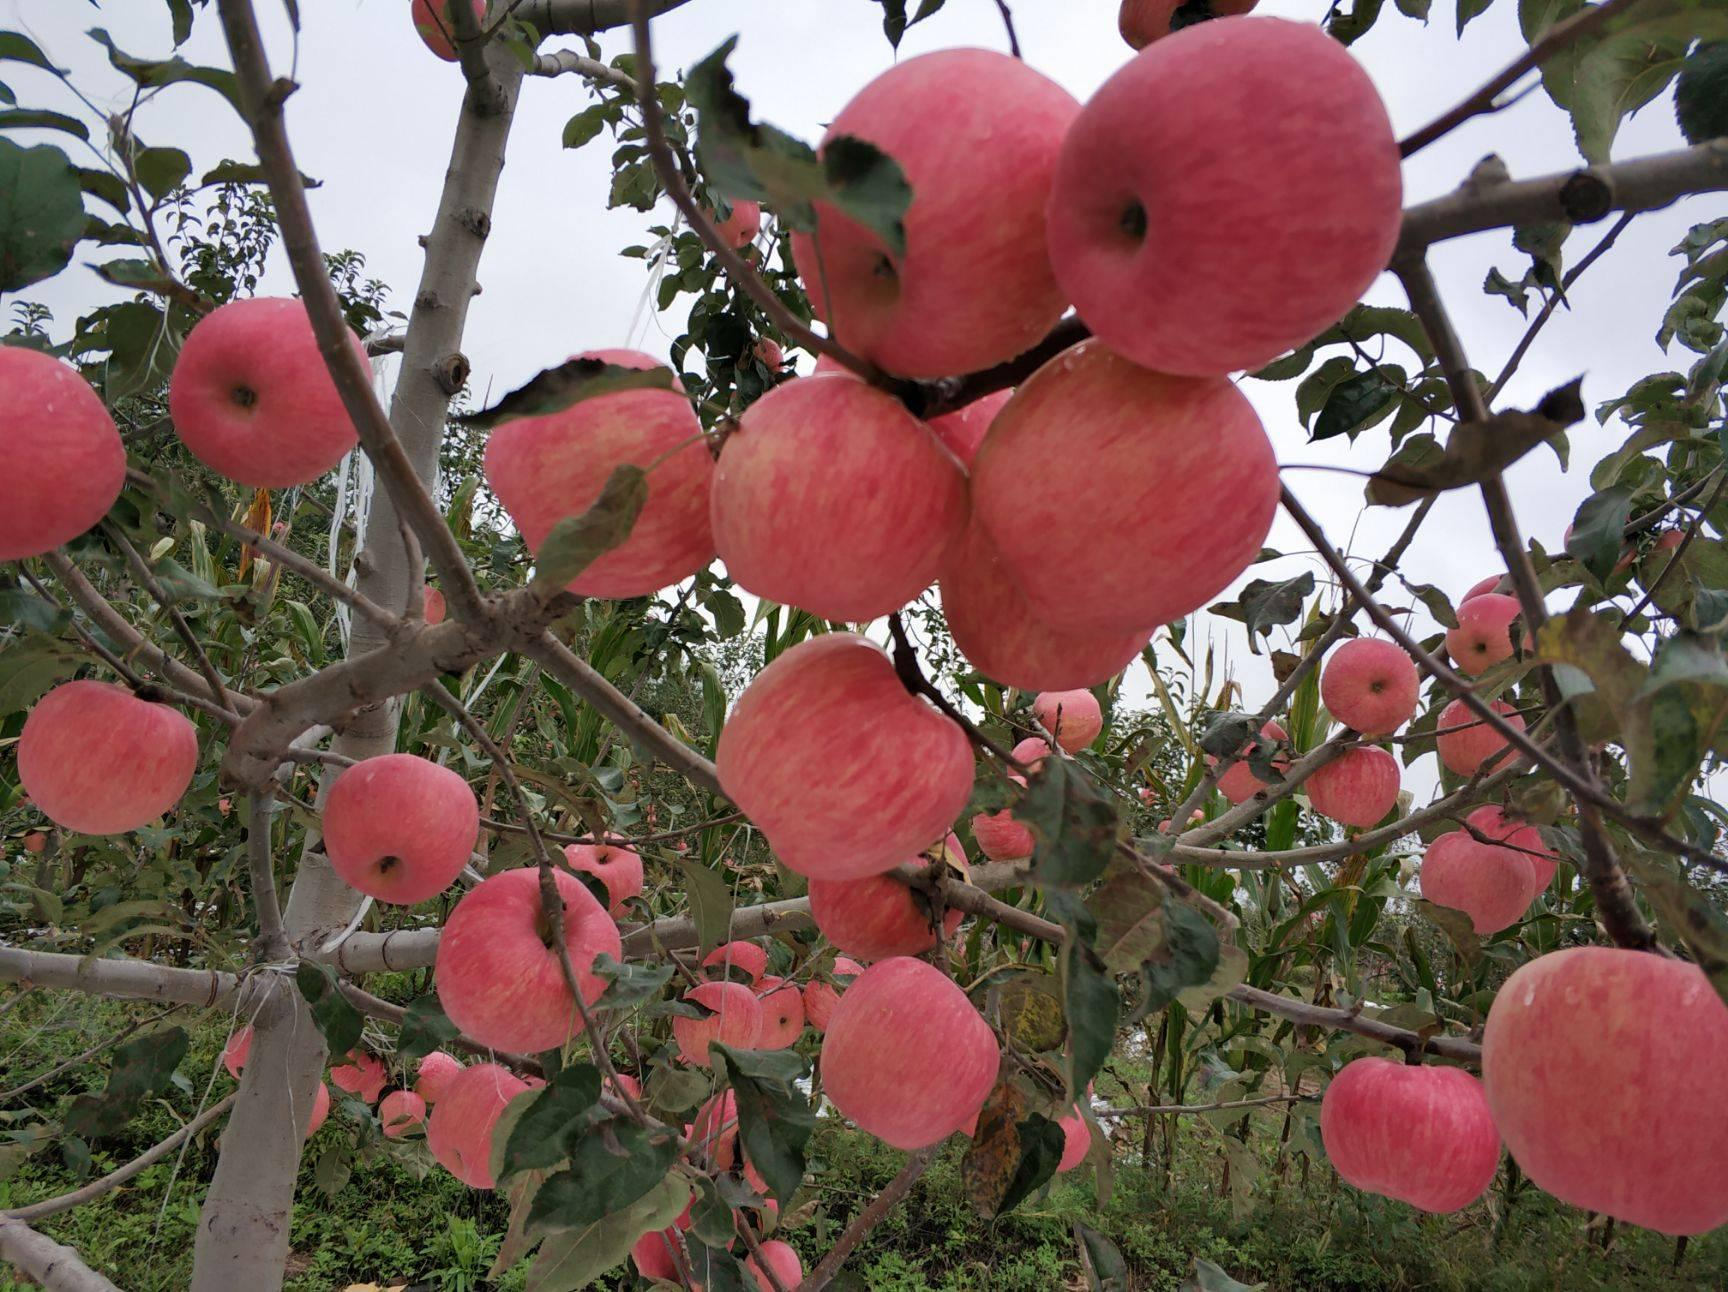apple: (1059, 19, 1395, 380), (800, 56, 1097, 381), (170, 294, 358, 489), (0, 343, 128, 550), (1447, 590, 1533, 679)
